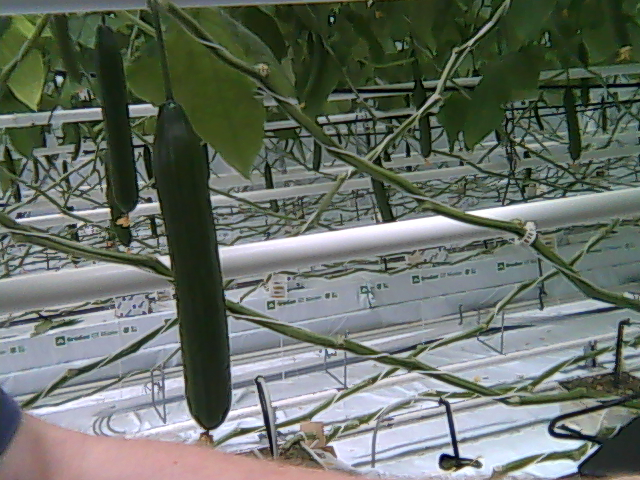concombre: (148, 93, 236, 447)
